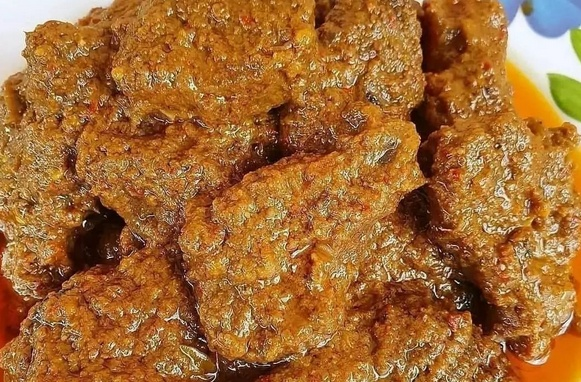rendang: (9, 1, 561, 373)
